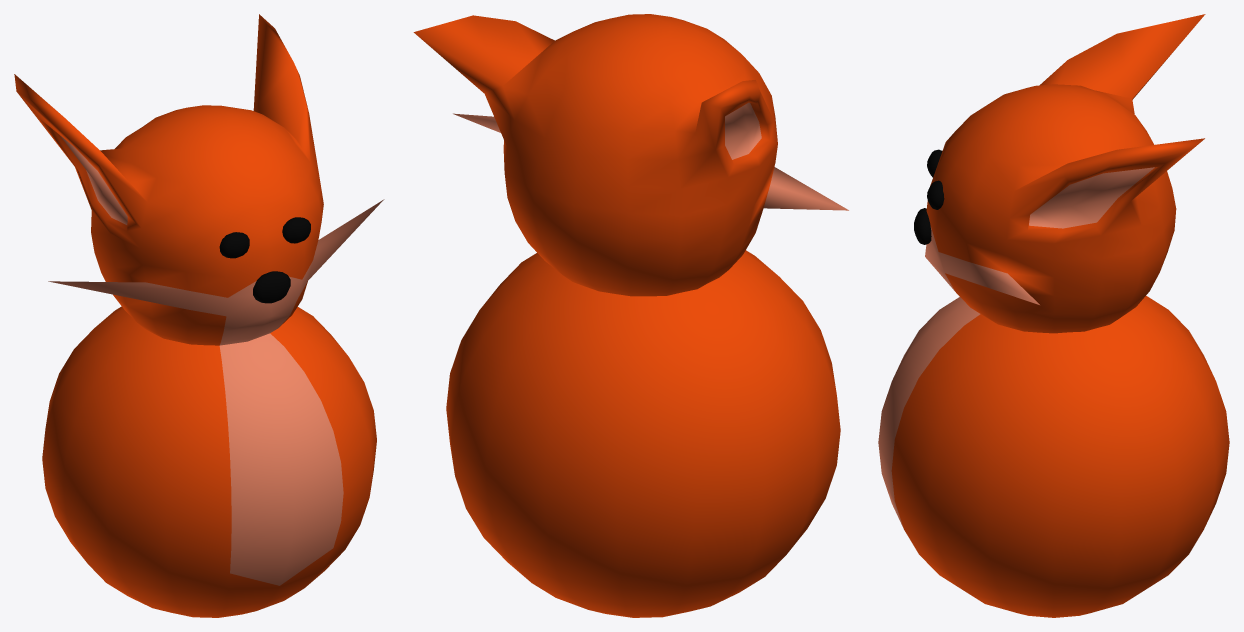
Rendered from FOX.fbx.
The picture shows the model from 3 angles, left to right: view 1: azimuth 30°, elevation 25°; view 2: azimuth 150°, elevation 25°; view 3: azimuth 270°, elevation 25°; orthographic projection. The views are drawn at different scales.
Visible parts, largest first — view 1: corps, head, noz, reye, leye; view 2: corps, head; view 3: corps, head, noz.
Boxes of the visible parts, left/top/right/bottom form: corps: left=42, top=306, right=376, bottom=617; head: left=14, top=14, right=384, bottom=345; noz: left=253, top=271, right=290, bottom=303; reye: left=219, top=232, right=249, bottom=258; leye: left=282, top=217, right=310, bottom=243; corps: left=446, top=250, right=840, bottom=617; head: left=413, top=14, right=848, bottom=296; corps: left=878, top=295, right=1229, bottom=617; head: left=925, top=14, right=1205, bottom=333; noz: left=914, top=208, right=931, bottom=244.
Size of the model in its own units: 367 by 525 by 318.
